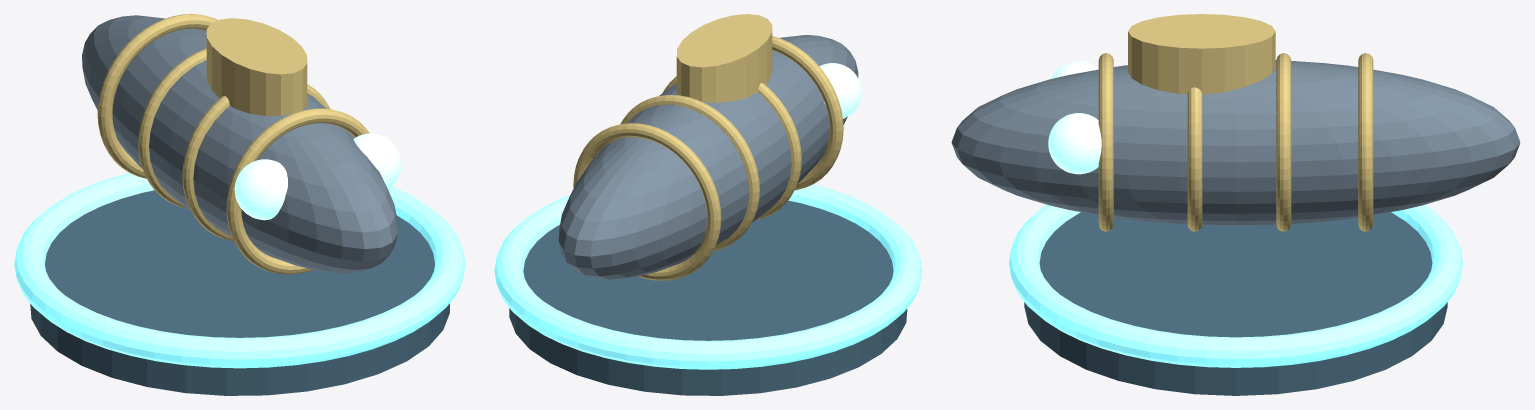
File: nautilus_sub.glb
The picture shows the model from 3 angles, left to right: view 1: azimuth 30°, elevation 25°; view 2: azimuth 150°, elevation 25°; view 3: azimuth 270°, elevation 25°; orthographic projection. The views are drawn at different scales.
Visible parts, largest first — view 1: Cylinder, Sphere, Torus, Cylinder.001, Torus.001, Torus.004, Sphere.001, Torus.003, Torus.002, Sphere.002; view 2: Cylinder, Sphere, Torus, Cylinder.001, Torus.004, Torus.003, Torus.001, Torus.002, Sphere.001; view 3: Sphere, Cylinder, Torus, Cylinder.001, Torus.004, Torus.003, Sphere.002, Torus.001, Torus.002.
Boxes of the visible parts, left/top/right/bottom form: Cylinder: left=30, top=190, right=449, bottom=395; Sphere: left=82, top=15, right=397, bottom=273; Torus: left=14, top=173, right=465, bottom=368; Cylinder.001: left=206, top=18, right=307, bottom=116; Torus.001: left=226, top=108, right=369, bottom=274; Torus.004: left=97, top=14, right=218, bottom=178; Sphere.001: left=234, top=159, right=287, bottom=220; Torus.003: left=138, top=48, right=206, bottom=208; Torus.002: left=182, top=84, right=330, bottom=241; Sphere.002: left=353, top=133, right=401, bottom=188; Cylinder: left=509, top=200, right=907, bottom=395; Sphere: left=558, top=35, right=858, bottom=279; Torus: left=494, top=184, right=922, bottom=369; Cylinder.001: left=676, top=14, right=772, bottom=102; Torus.004: left=573, top=123, right=721, bottom=280; Torus.003: left=620, top=95, right=759, bottom=251; Torus.001: left=772, top=36, right=843, bottom=190; Torus.002: left=663, top=76, right=801, bottom=220; Sphere.001: left=819, top=63, right=861, bottom=118; Sphere: left=951, top=60, right=1520, bottom=225; Cylinder: left=1024, top=212, right=1447, bottom=395; Torus: left=1009, top=204, right=1462, bottom=367; Cylinder.001: left=1128, top=14, right=1275, bottom=94; Torus.004: left=1358, top=53, right=1373, bottom=231; Torus.003: left=1276, top=53, right=1291, bottom=231; Sphere.002: left=1048, top=113, right=1101, bottom=174; Torus.001: left=1098, top=53, right=1113, bottom=231; Torus.002: left=1187, top=87, right=1202, bottom=231.
Bounding box in the file's own units: 1.33 × 0.889 × 1.67.
